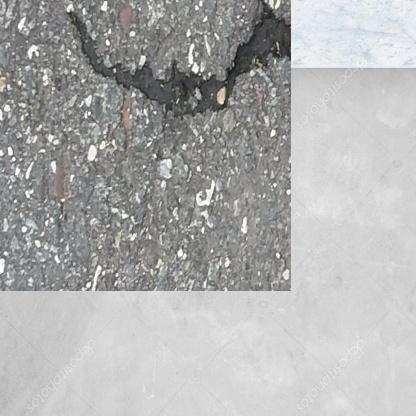Cracks: (59, 0, 269, 121)
